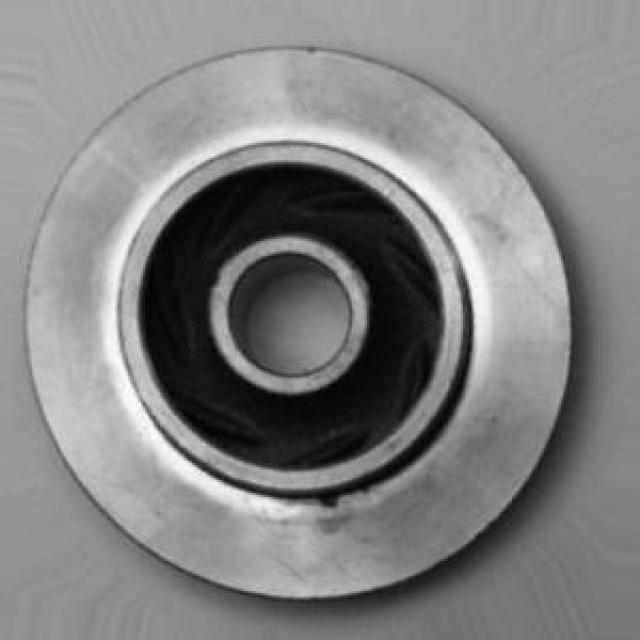Defect: (313, 491, 347, 508)
